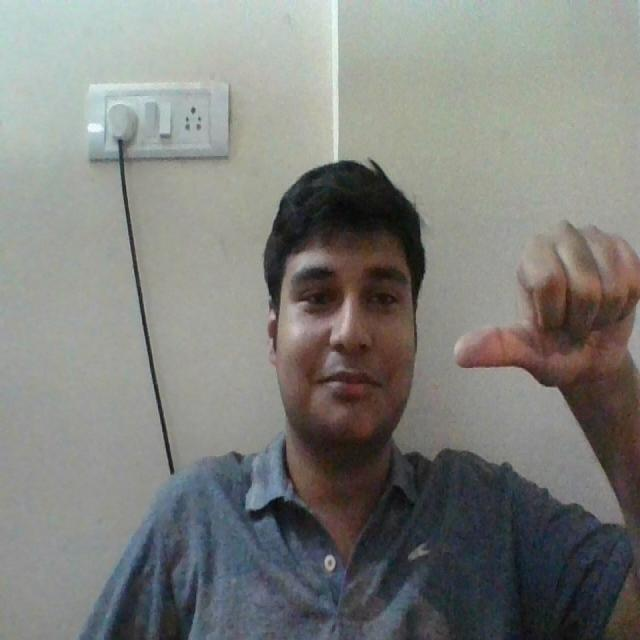Yes: (457, 207, 640, 391)
